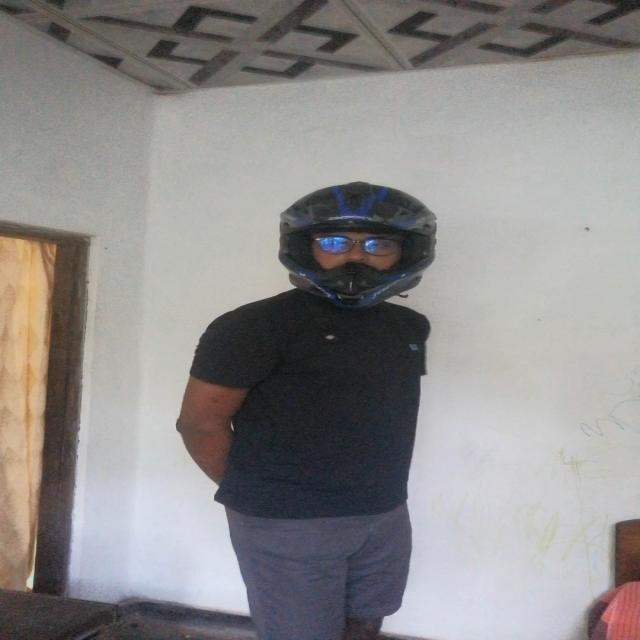Helmet_Wearer: (278, 175, 442, 324)
